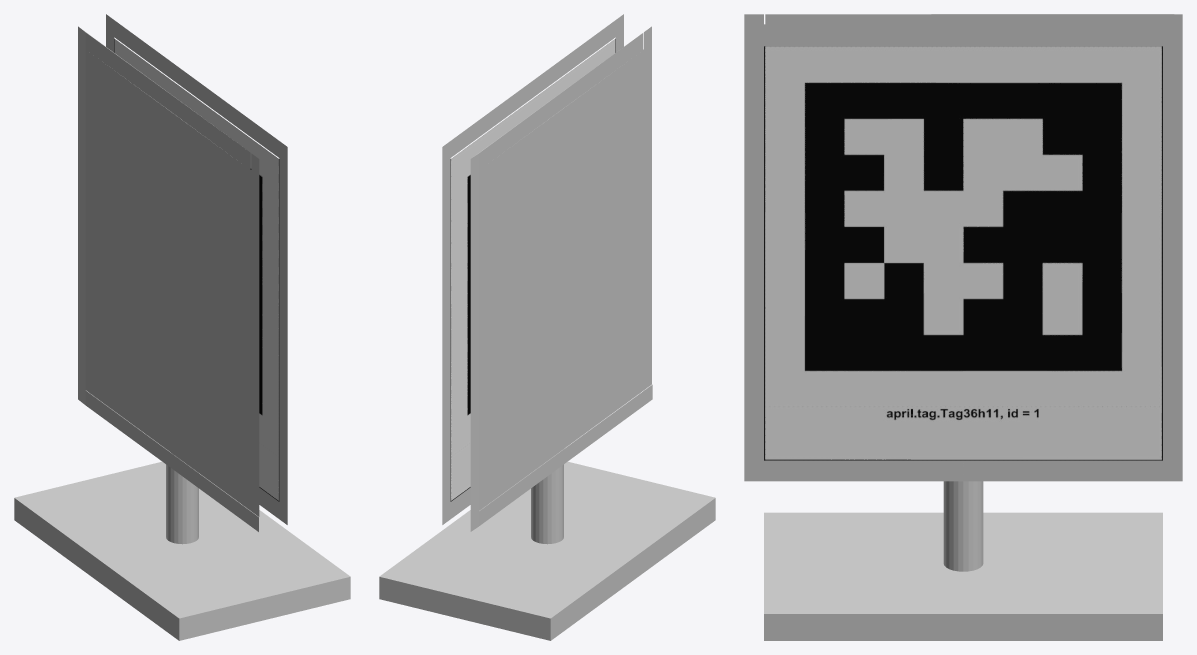
The model's file is tag1.dae.
3 views of the same model, side by side, from view 1: azimuth 30°, elevation 25°; view 2: azimuth 150°, elevation 25°; view 3: azimuth 270°, elevation 25° (orthographic). The views are drawn at different scales.
Parts seen in each view (by area): view 1: Component_3 (×4), image_0; view 2: Component_3 (×4), image_0; view 3: image_0, Component_3 (×4).
Boxes of the visible parts, x1=… form: Component_3 (×4): x1=14, y1=14, x2=350, y2=640; image_0: x1=114, y1=38, x2=279, y2=501; Component_3 (×4): x1=379, y1=14, x2=715, y2=640; image_0: x1=450, y1=38, x2=615, y2=501; image_0: x1=764, y1=46, x2=1162, y2=460; Component_3 (×4): x1=744, y1=14, x2=1182, y2=640.
Bounding box in the file's own units: 9.45 × 17.32 × 25.04.
2 materials, 1 textured.
